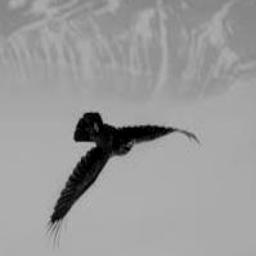Crow: (45, 112, 203, 248)
